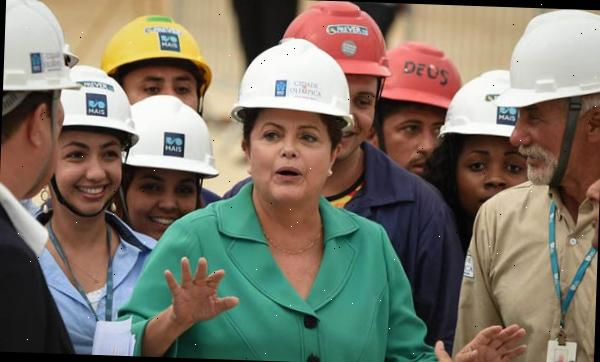helmet: (1, 0, 86, 136), (495, 7, 600, 115), (226, 40, 358, 124), (273, 0, 396, 81), (127, 96, 230, 180), (101, 14, 215, 80), (56, 56, 142, 143), (377, 39, 470, 113), (440, 64, 530, 140)
no_wear: (176, 198, 375, 362), (460, 188, 599, 362), (30, 220, 148, 350)
